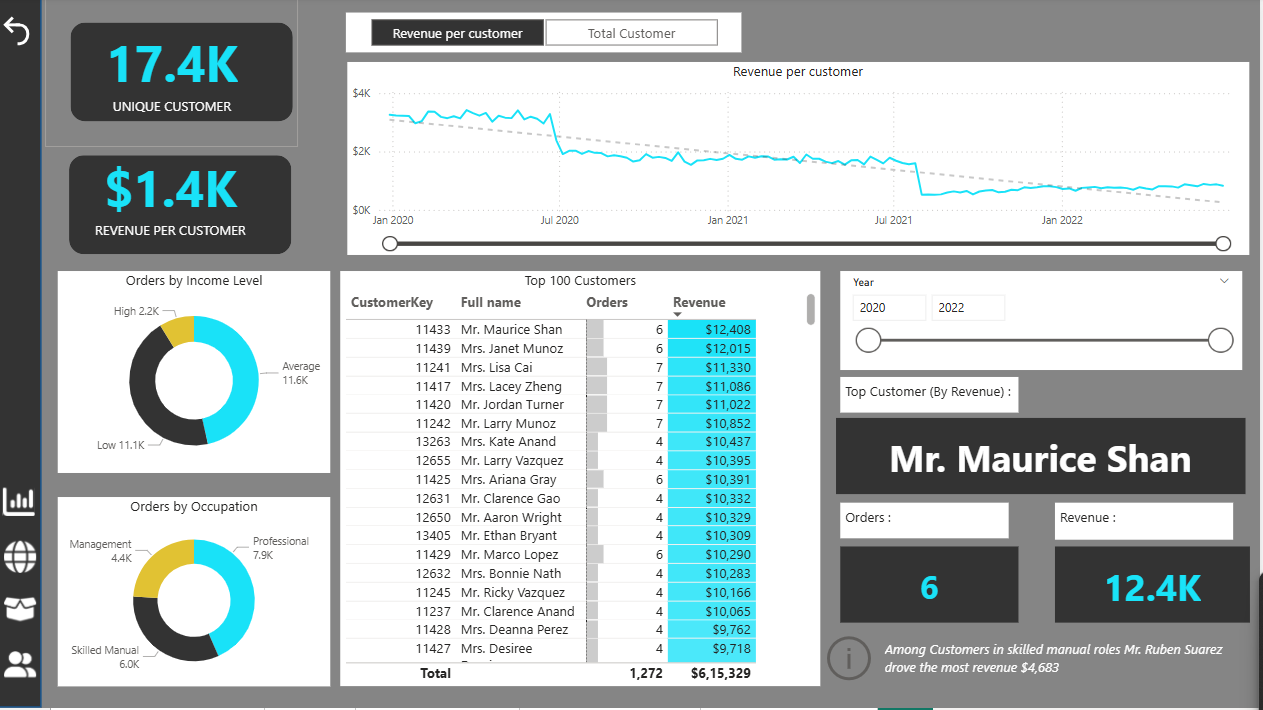

Layout of this report page (visuals, bound fields, positions):
{"tool":"powerbi","page":{"name":"Customer Detail","canvas":[1280,720],"ordinal":3},"visuals":[{"type":"shape","box":[0,0,45,719.8],"z":0},{"type":"actionButton","box":[0.7,491.5,59.6,40.7],"z":0,"group":"g1"},{"type":"shape","box":[74.2,26.2,225.4,100.3],"z":1000},{"type":"actionButton","box":[1.4,546.8,59.6,40.7],"z":1000,"group":"g1"},{"type":"shape","box":[72.7,160,225.4,100.3],"z":2000},{"type":"actionButton","box":[1.4,600.6,59.6,40.7],"z":2000,"group":"g1"},{"type":"cardVisual","fields":{"Data":["Measure Table.Average Revenue per customer"]},"box":[45.1,126.5,260.3,151.2],"z":3000},{"type":"actionButton","box":[1.4,655.8,59.6,40.7],"z":3000,"group":"g1"},{"type":"lineChart","fields":{"Category":["Calendar Lookup.Date Hierarchy.Start of Year","Calendar Lookup.Date Hierarchy.Start of Month","Calendar Lookup.Date Hierarchy.Start of Week","Calendar Lookup.Date Hierarchy.Date"],"Y":["Measure Table.Average Revenue per customer"]},"box":[354.8,65.4,913.2,194.9],"z":4000},{"type":"cardVisual","fields":{"Data":["Measure Table.Total Customer"]},"box":[48,0,257.4,151.2],"z":5000},{"type":"donutChart","title":"Orders by Income Level","fields":{"Category":["Customer Lookup.Income Level"],"Y":["Measure Table.Total Orders"]},"box":[61.5,277.6,276.2,204.6],"z":6000},{"type":"donutChart","title":"Orders by Occupation","fields":{"Category":["Customer Lookup.Occupation"],"Y":["Measure Table.Total Orders"]},"box":[61.5,506.6,276.2,191.8],"z":7000},{"type":"tableEx","title":"Top 100 Customers","fields":{"Values":["Customer Lookup.CustomerKey","Customer Lookup.Full name","Measure Table.Total Orders","Measure Table.Total Revenue"]},"box":[347.7,277.6,486.5,420.7],"z":8000},{"type":"cardVisual","fields":{"Data":["Customer Lookup.Full Name (Customer Detail)"]},"box":[850,426.4,415,77.3],"z":9000},{"type":"textbox","box":[854.3,384.9,180.3,35.8],"z":10000},{"type":"cardVisual","fields":{"Data":["Measure Table.Total Orders (customer Detail)"]},"box":[854.3,556.7,180.3,77.3],"z":11000},{"type":"cardVisual","fields":{"Data":["Measure Table.Total Revenue (Customer Detail)"]},"box":[1071.8,556.7,197.5,77.3],"z":12000},{"type":"textbox","box":[1071.8,512.3,180.3,37.2],"z":13000},{"type":"textbox","box":[854.3,512.3,170.3,35.8],"z":14000},{"type":"slicer","fields":{"Values":["Calendar Lookup.Year"]},"box":[854.3,277.6,406.4,100.2],"z":15000},{"type":"actionButton","box":[834.3,641.1,445,57.2],"z":16000},{"type":"actionButton","box":[0,14.5,45.1,39.2],"z":17000},{"type":"group","id":"g1","title":"nav_button","box":[0.7,491.5,60.3,205],"z":18000},{"type":"slicer","fields":{"Values":["Customer Metric Selection.Customer Metric Selection"]},"box":[353.5,15.7,400.7,40.1],"z":19000}]}

Visuals, with their boxes on the page's 1280x720 design canvas (x1, y1, x2, y2). These are canvas units, not pixel positions in the 1263x710 screenshot, which may show the page scaled, cropped or inside an application window:
shape: bbox=(0, 0, 45, 720)
actionButton: bbox=(1, 492, 60, 532)
shape: bbox=(74, 26, 300, 126)
actionButton: bbox=(1, 547, 61, 588)
shape: bbox=(73, 160, 298, 260)
actionButton: bbox=(1, 601, 61, 641)
cardVisual - Measure Table.Average Revenue per customer: bbox=(45, 126, 305, 278)
actionButton: bbox=(1, 656, 61, 696)
lineChart - Calendar Lookup.Date Hierarchy.Start of Year x Calendar Lookup.Date Hierarchy.Start of Month: bbox=(355, 65, 1268, 260)
cardVisual - Measure Table.Total Customer: bbox=(48, 0, 305, 151)
"Orders by Income Level" donutChart: bbox=(62, 278, 338, 482)
"Orders by Occupation" donutChart: bbox=(62, 507, 338, 698)
"Top 100 Customers" tableEx: bbox=(348, 278, 834, 698)
cardVisual - Customer Lookup.Full Name (Customer Detail): bbox=(850, 426, 1265, 504)
textbox: bbox=(854, 385, 1035, 421)
cardVisual - Measure Table.Total Orders (customer Detail): bbox=(854, 557, 1035, 634)
cardVisual - Measure Table.Total Revenue (Customer Detail): bbox=(1072, 557, 1269, 634)
textbox: bbox=(1072, 512, 1252, 550)
textbox: bbox=(854, 512, 1025, 548)
slicer - Calendar Lookup.Year: bbox=(854, 278, 1261, 378)
actionButton: bbox=(834, 641, 1279, 698)
actionButton: bbox=(0, 14, 45, 54)
"nav_button" group: bbox=(1, 492, 61, 696)
slicer - Customer Metric Selection.Customer Metric Selection: bbox=(354, 16, 754, 56)
